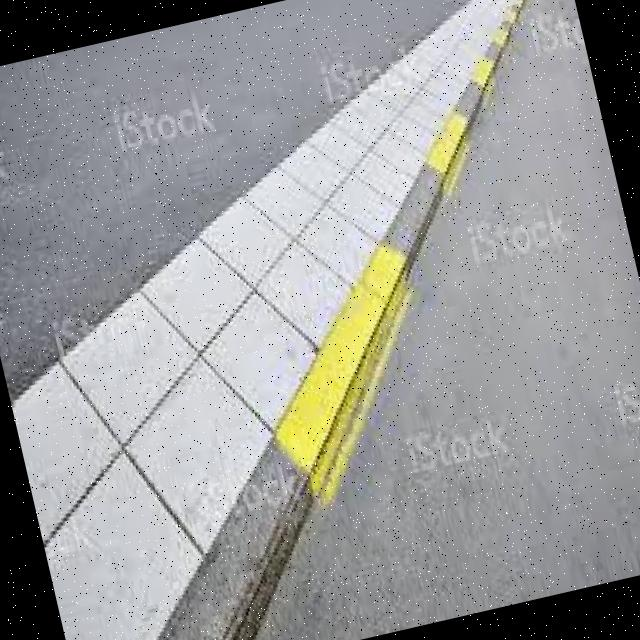curb: (230, 260, 461, 521), (102, 464, 356, 640), (355, 151, 517, 319), (415, 72, 517, 168)
